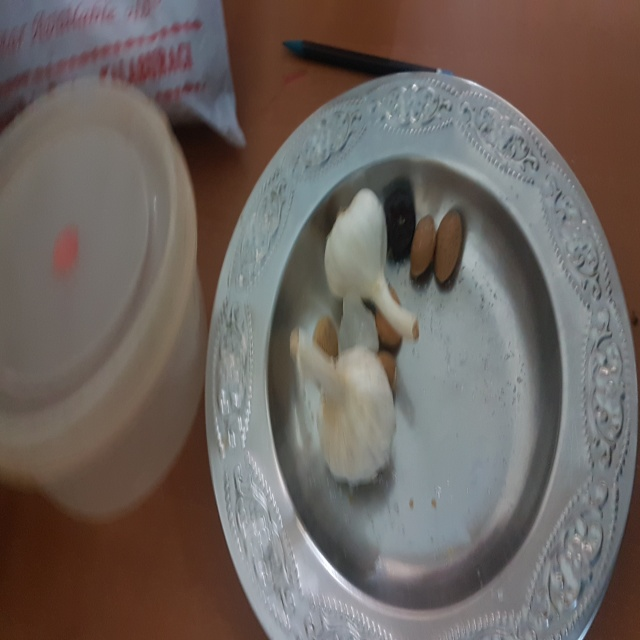garlic: (282, 333, 413, 490), (311, 194, 444, 346)
